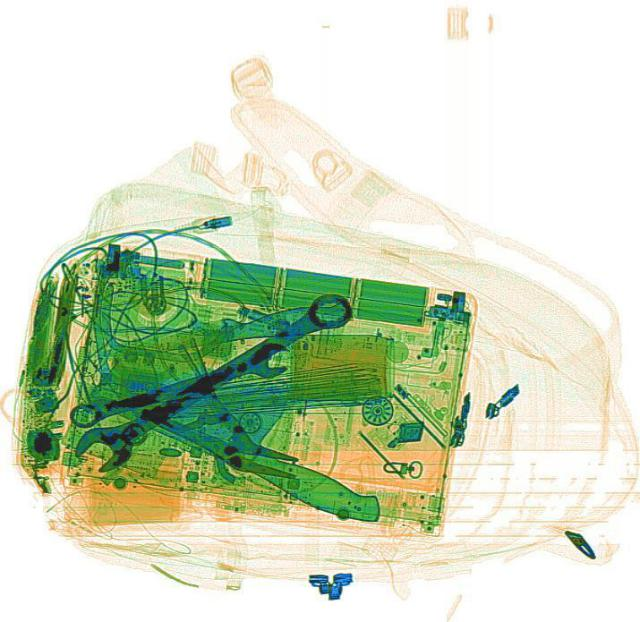Knife: (84, 324, 412, 531), (114, 298, 352, 356)
Wrench: (65, 279, 361, 479), (64, 335, 294, 433)
